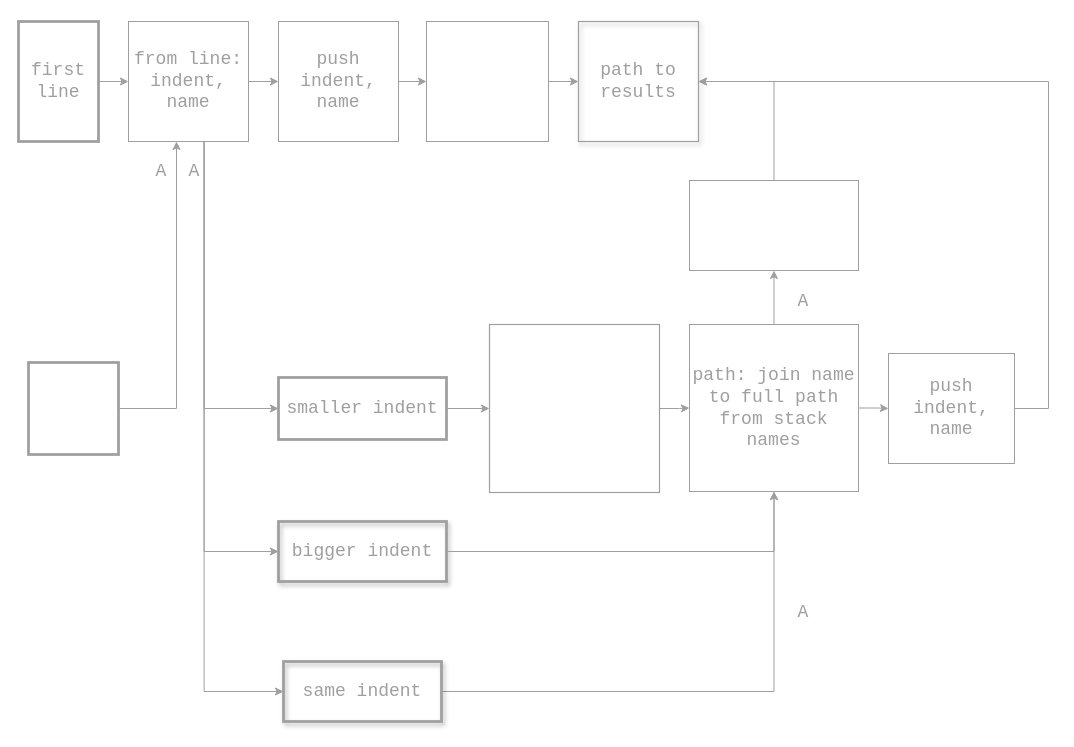
The diagram is 1074 pixels wide and 747 high, and some of its shapes have lost their labels. Each missing label, with the centre of its shape:
"in stack: change top name" belongs at (773,225).
"not first line" belongs at (73,408).
"path: name" belongs at (487,81).
"pop until this indent (including it)" belongs at (574,408).
